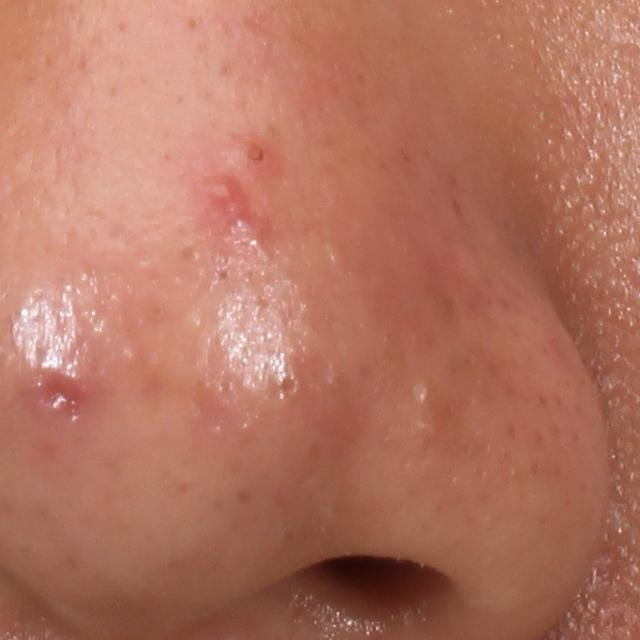comedo: (276, 369, 311, 404), (408, 385, 433, 412)
papule: (232, 135, 277, 175)
